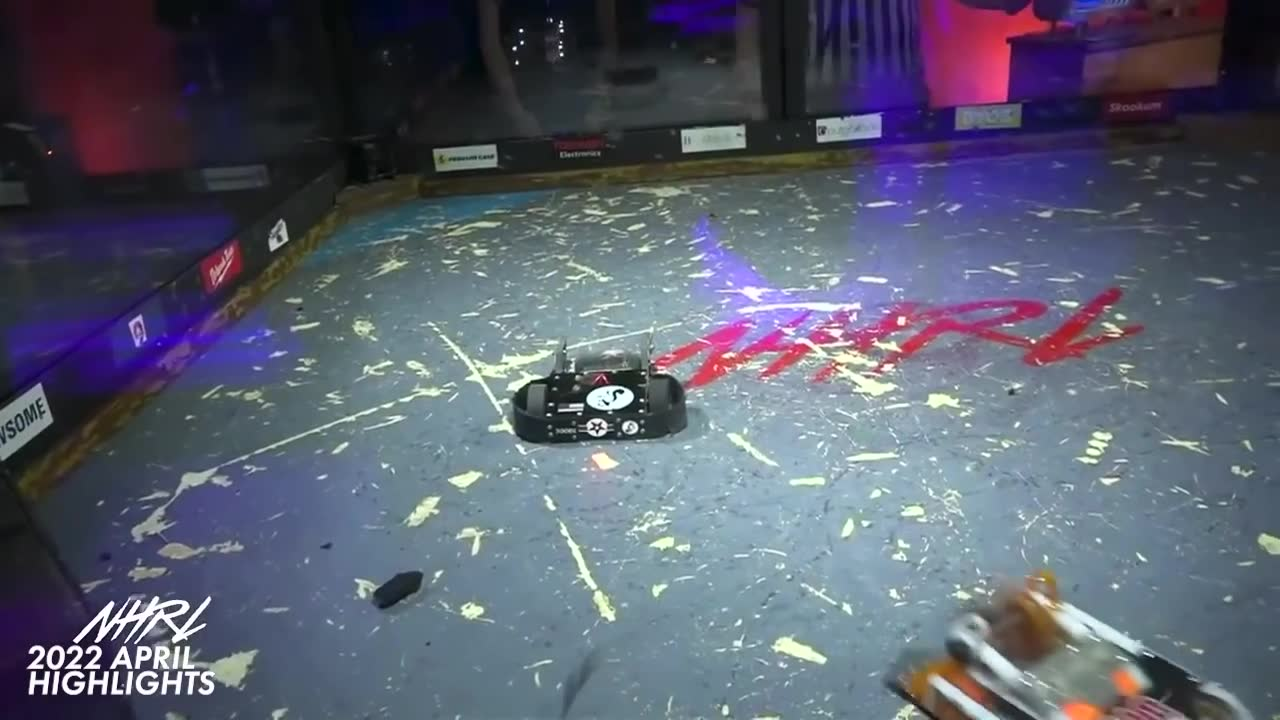combatbot: (873, 573, 1261, 718), (511, 370, 690, 442)
debris: (369, 570, 426, 610)
